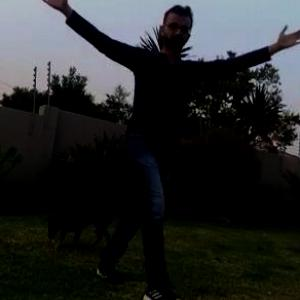takeoff: (48, 0, 284, 268)
